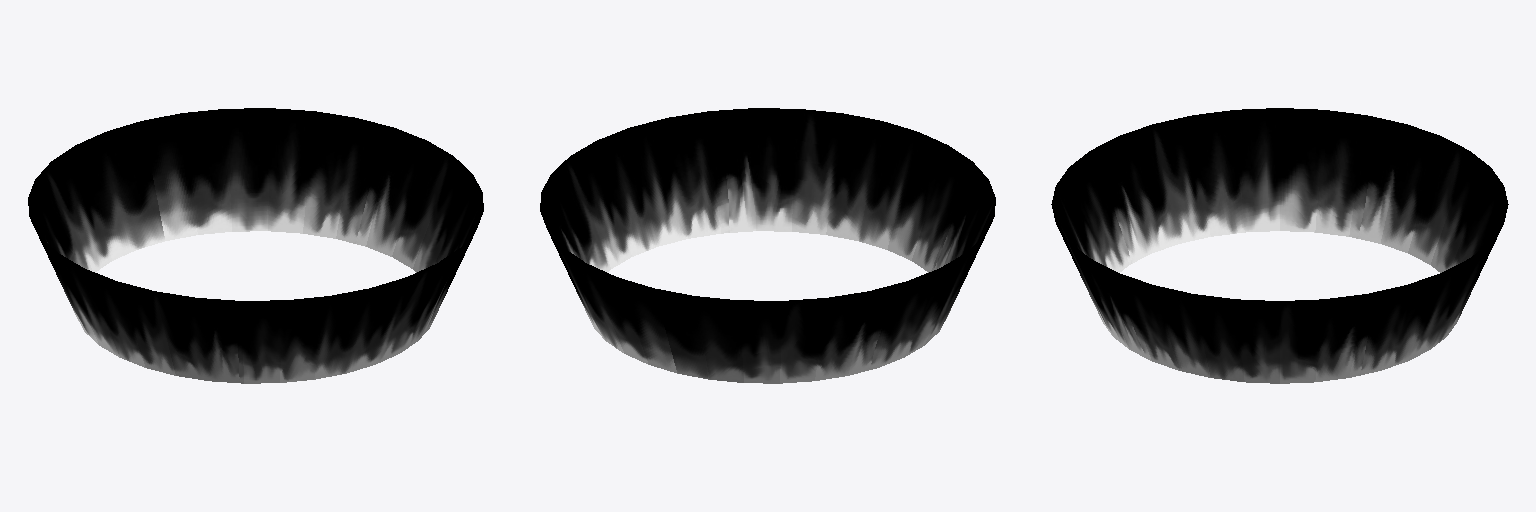
3 views of the same model, side by side, from view 1: azimuth 30°, elevation 25°; view 2: azimuth 150°, elevation 25°; view 3: azimuth 270°, elevation 25° (orthographic).
Parts seen in each view (by area): view 1: Cylinder; view 2: Cylinder; view 3: Cylinder.
Boxes of the visible parts, <box> form: Cylinder: <box>28,108,483,383</box>; Cylinder: <box>540,108,995,383</box>; Cylinder: <box>1051,108,1508,383</box>.
Size of the model in its own units: 3.41 by 0.847 by 3.41.
Materials: 1 (1 with a texture image).